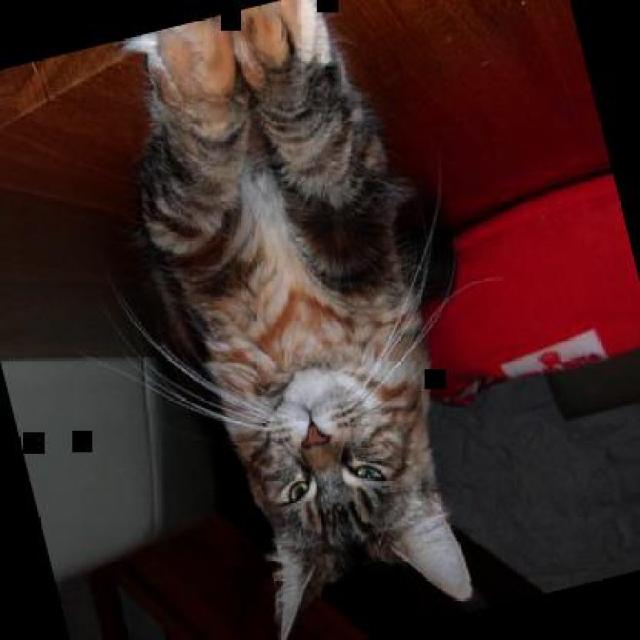cat: (84, 0, 518, 638)
